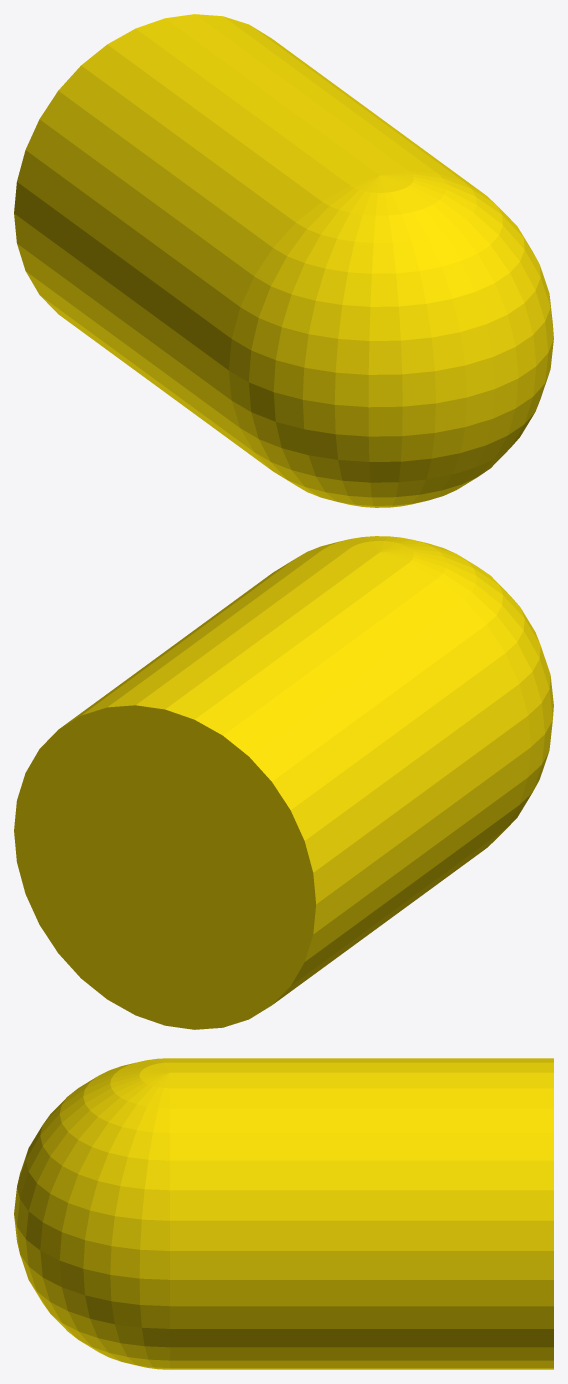
The model's file is bullet.obj.
3 renders of one model, top to bottom at view 1: azimuth 30°, elevation 25°; view 2: azimuth 150°, elevation 25°; view 3: azimuth 270°, elevation 25°, orthographic. The views are drawn at different scales.
Visible parts, largest first — view 1: 球; view 2: 球; view 3: 球.
Part boxes in pixels (x1,y1,x2,y2): 球: (14,14,553,507); 球: (14,536,553,1029); 球: (14,1058,553,1369).
Bounding box in the file's own units: 0.4923 × 0.4923 × 0.8523.
1 material, 1 textured.
